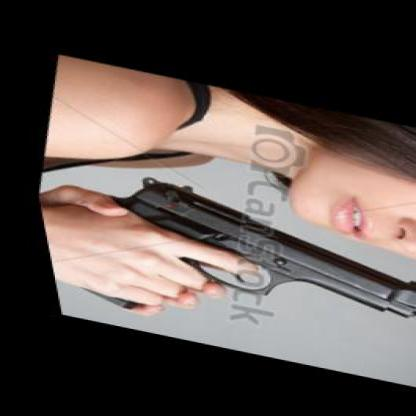pistol: (31, 160, 413, 368)
